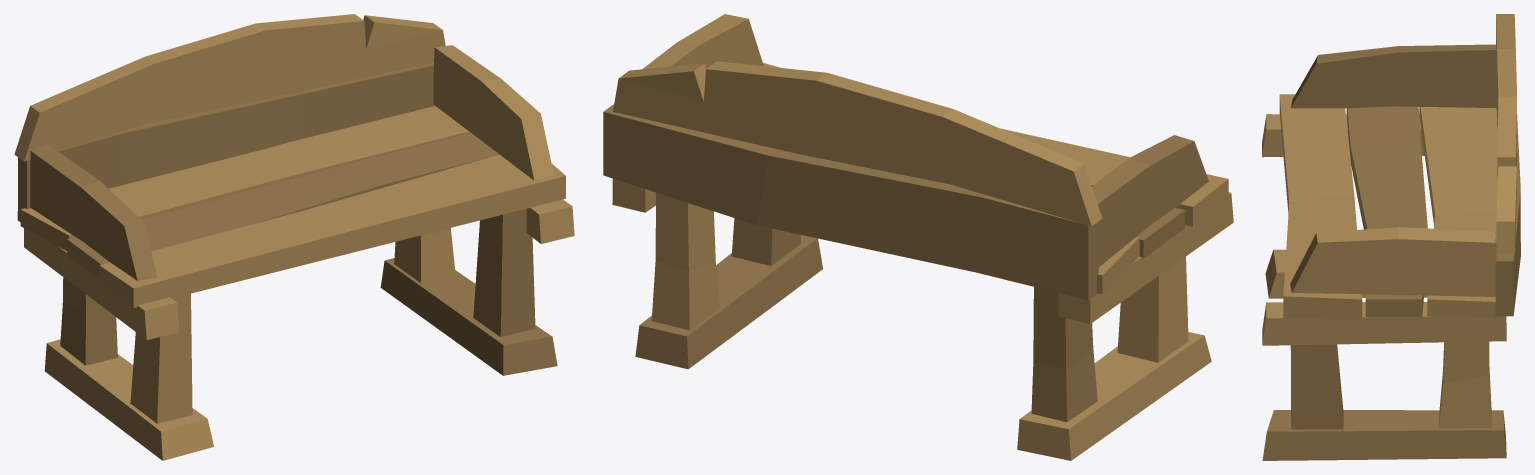
The model's file is Wooden_Table_Small.gltf.
The picture shows the model from 3 angles, left to right: view 1: azimuth 30°, elevation 25°; view 2: azimuth 150°, elevation 25°; view 3: azimuth 270°, elevation 25°; orthographic projection. The views are drawn at different scales.
Visible parts, largest first — view 1: Wooden_Table_Small2; view 2: Wooden_Table_Small2; view 3: Wooden_Table_Small2.
Boxes of the visible parts, <box> form: Wooden_Table_Small2: <box>14,14,574,460</box>; Wooden_Table_Small2: <box>603,14,1233,460</box>; Wooden_Table_Small2: <box>1262,14,1520,460</box>.
Size of the model in its own units: 0.4521 by 0.2832 by 0.235.
Materials: 1 (1 with a texture image).
